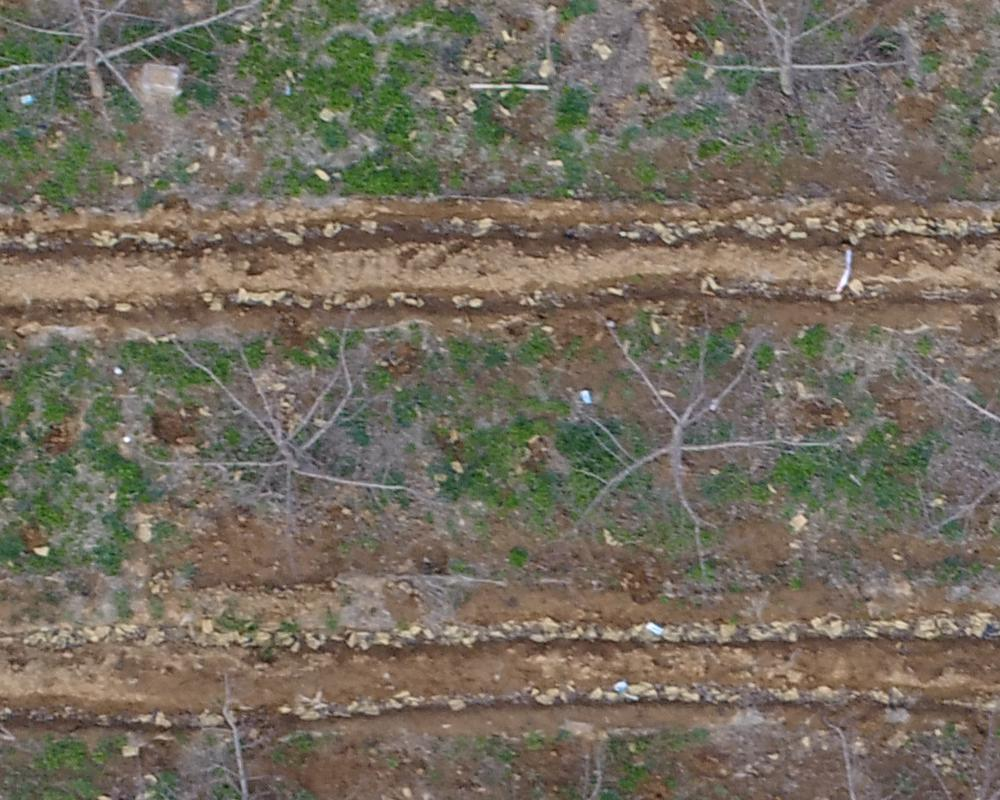apple: (94, 287, 447, 549), (544, 310, 850, 567), (665, 10, 933, 121)
